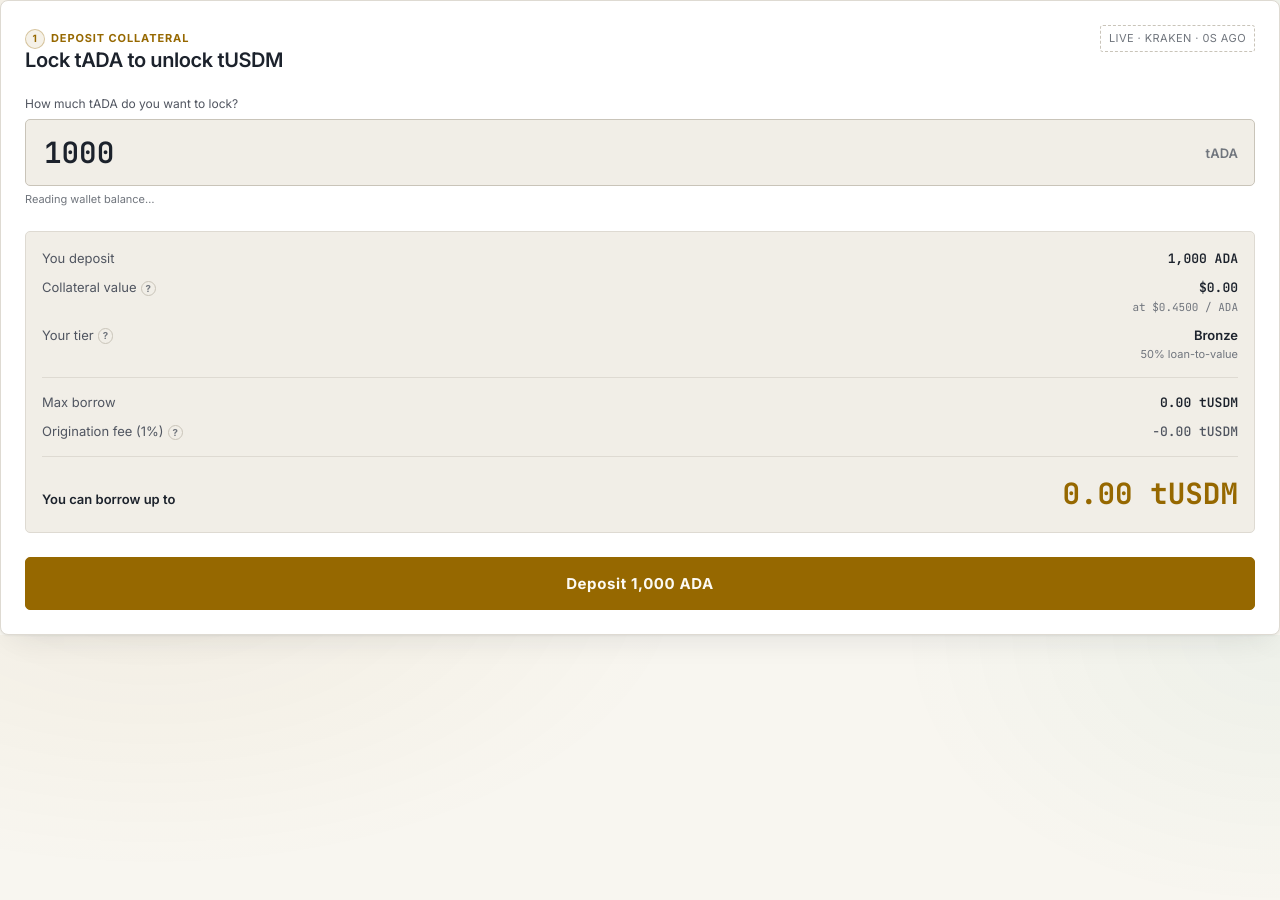
Test case: BorrowPanel deposit review modal › opens a review modal with amount, from address, and vault address — without signing
Click the button "Deposit 1,000 ADA".
click(640, 584)  # box [25,557,1255,610]
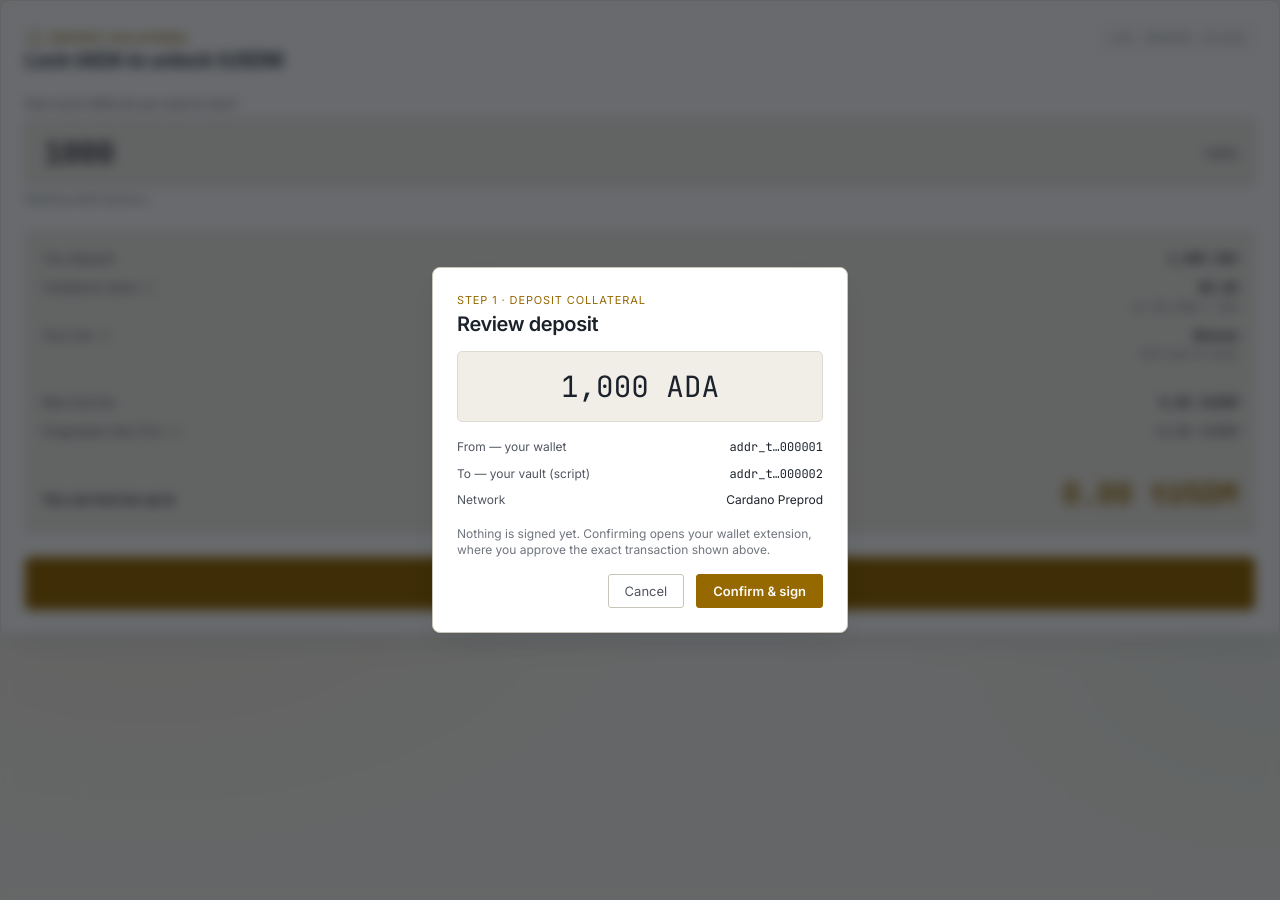
Expected: the dialog shows "Review deposit", [457,312,598,336]
Expected: the dialog shows "1,000 ADA", [561,367,719,406]
Expected: the dialog shows "addr_t…000001", [729,439,823,455]
